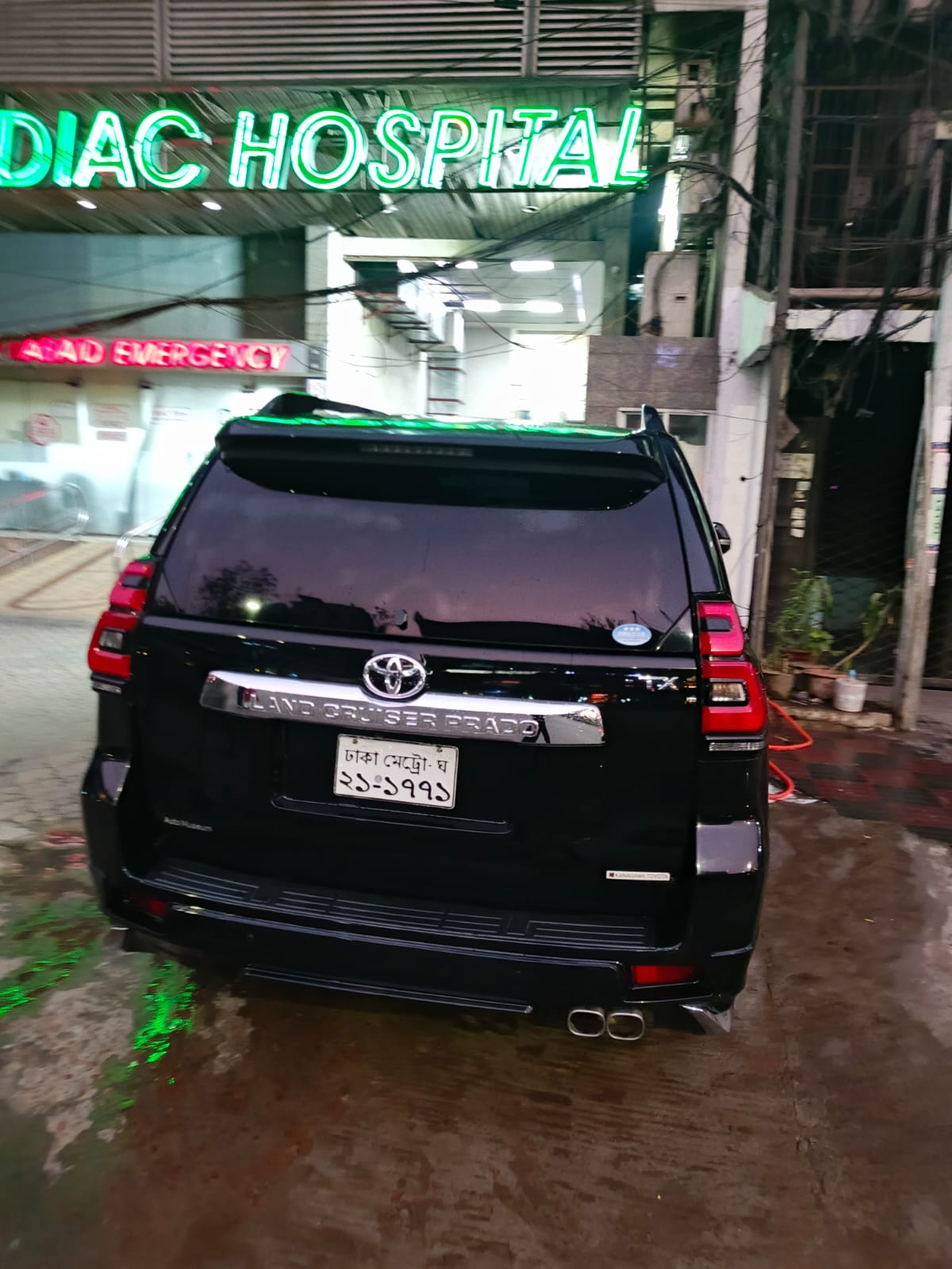private car: (53, 312, 831, 1071)
